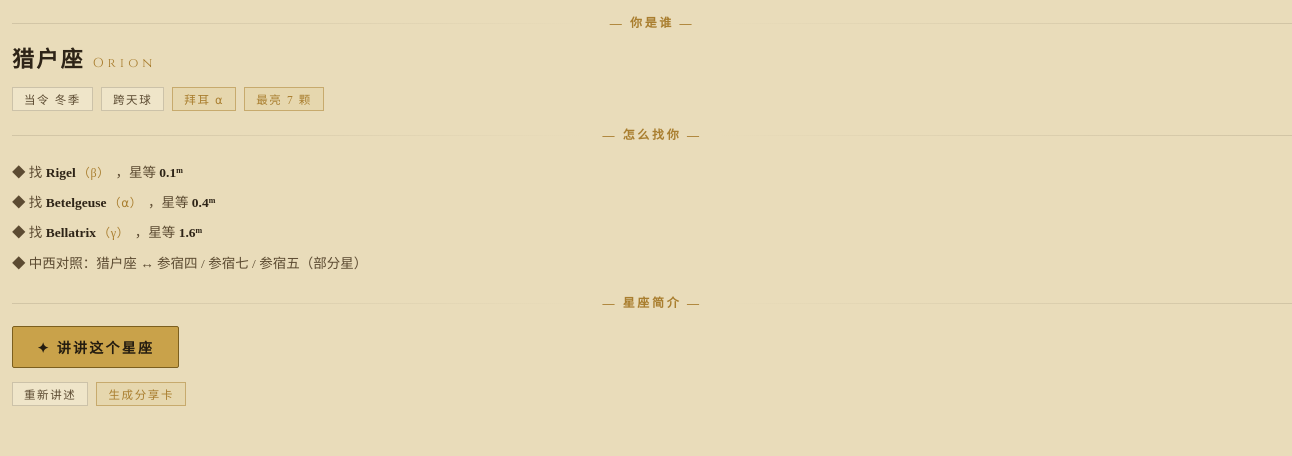
Test: AtlasNota · 星座简介 状态机 › AI 失败 → error 态显降级文字 + 重试按钮
What coordinates should you click on to do the following:
click the button with test id "nota-btn-generate"
I would click on:
 (96, 347)
Its box is [12,326,179,368].
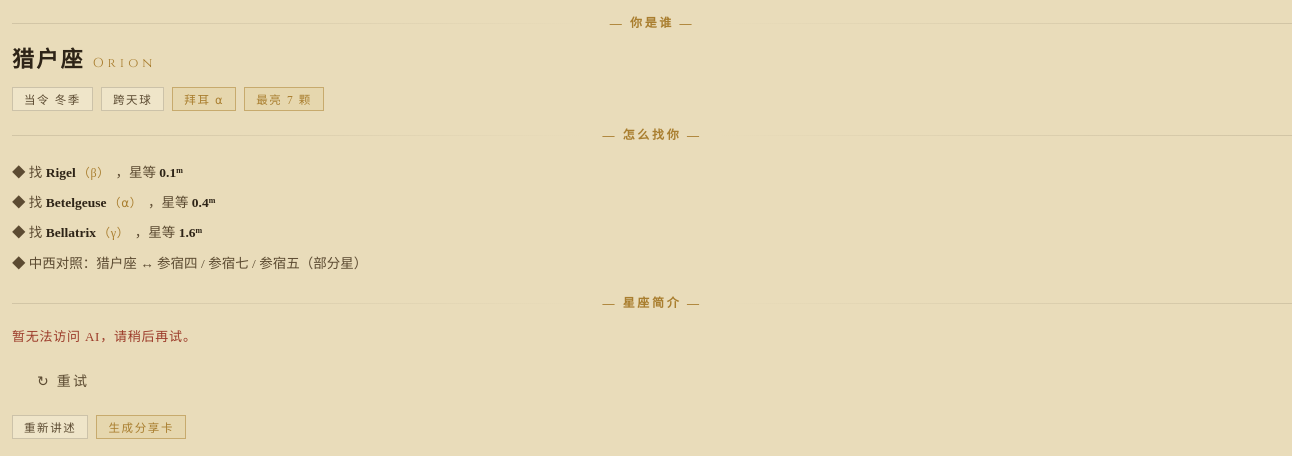
expect the text "暂无法访问 AI" is shown: met, box [12,329,197,344]
expect the button "↻ 重试" is shown: met, box [12,359,114,401]
